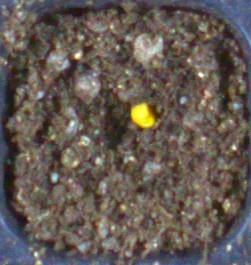pepper seed: (51, 37, 207, 167)
